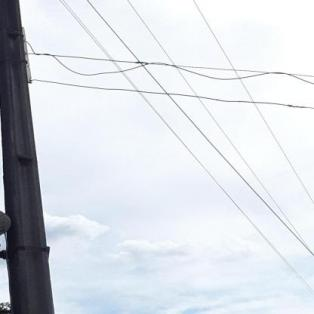Poste: (0, 0, 67, 314)
